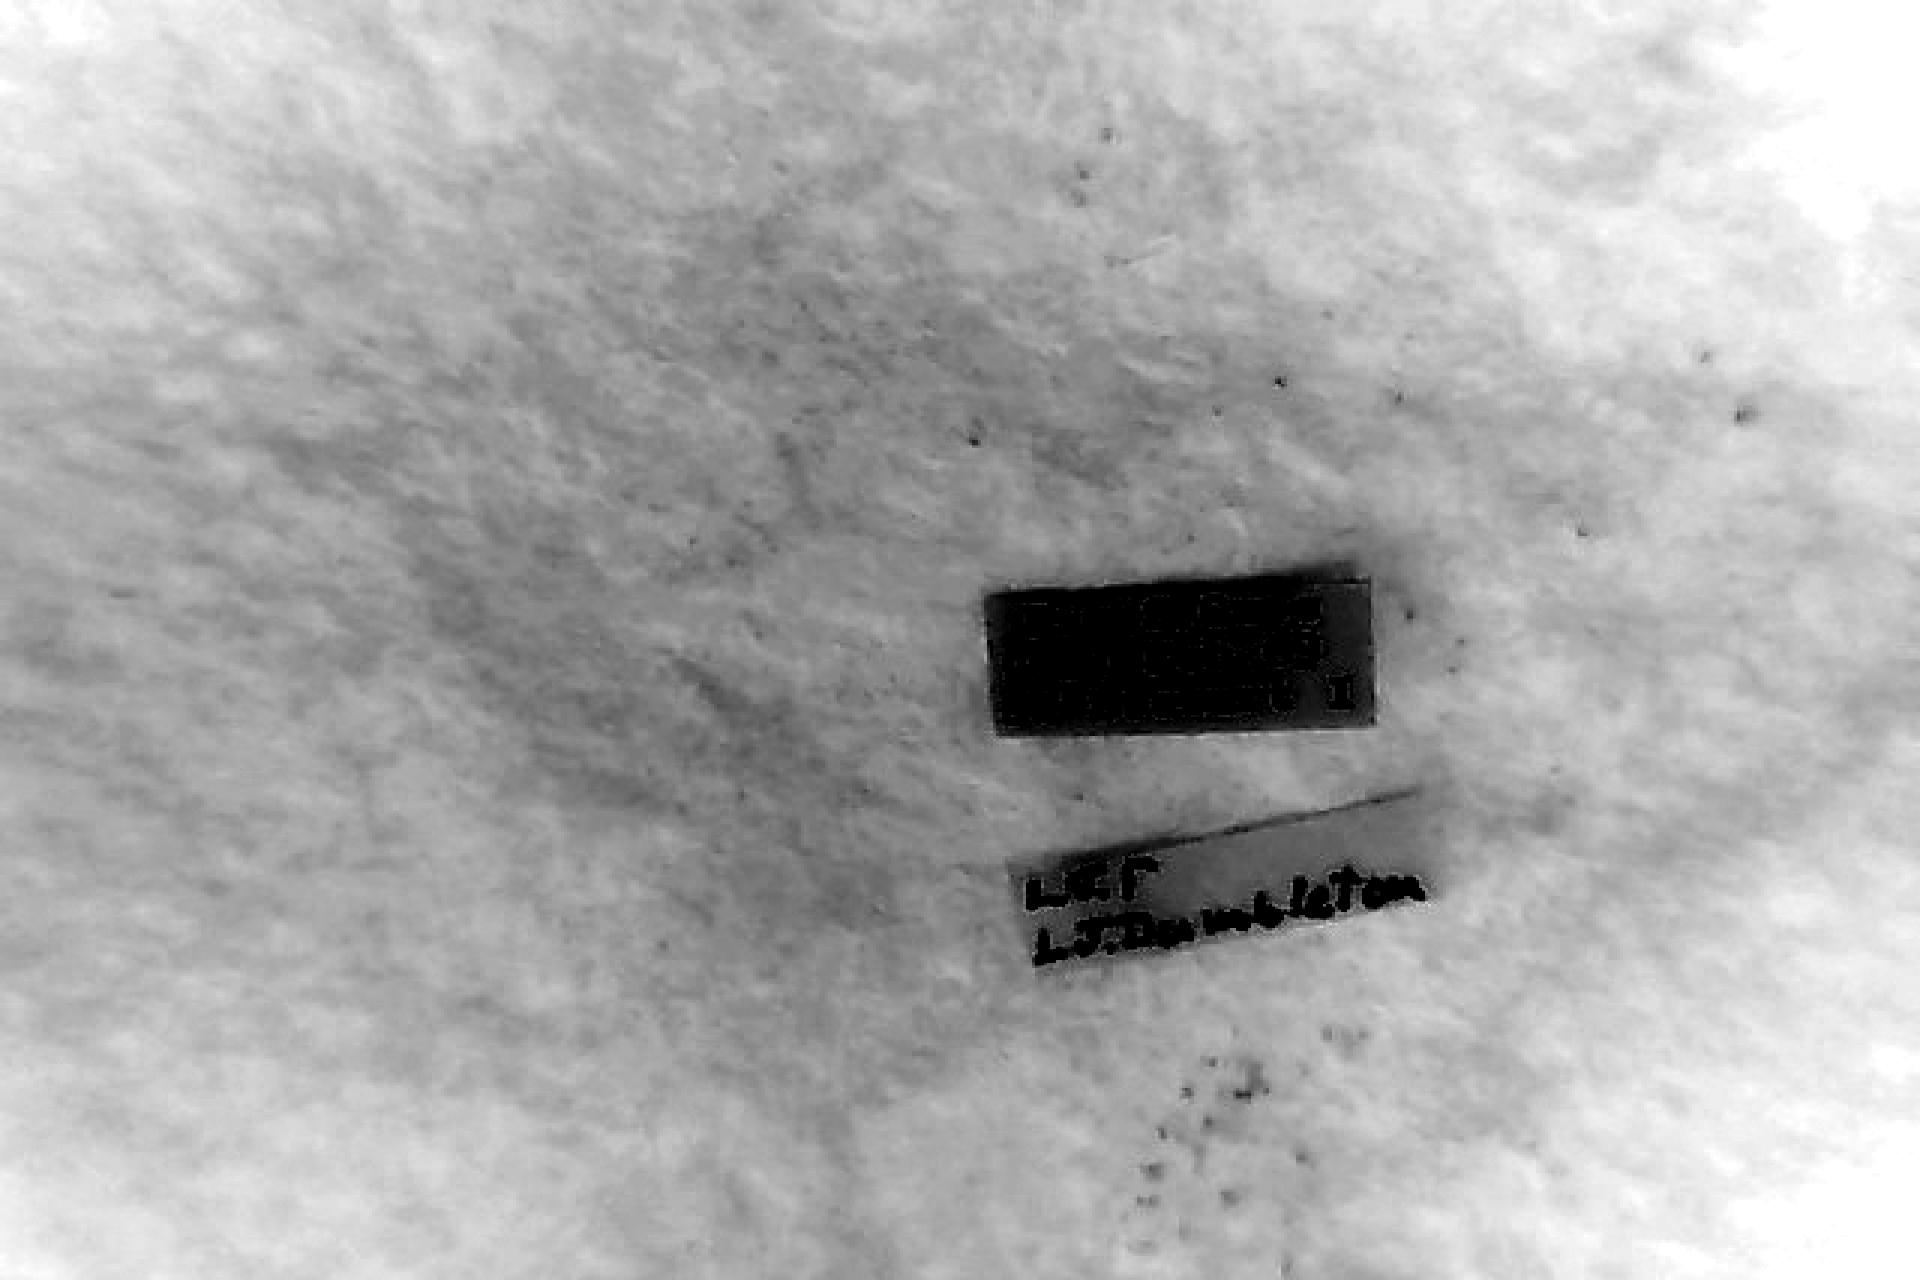hand_label: (1026, 797, 1436, 966)
typed_label: (989, 580, 1376, 734)
